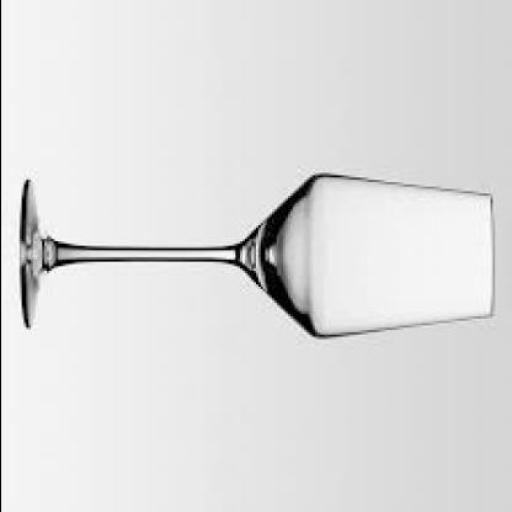glass: (23, 178, 498, 344)
